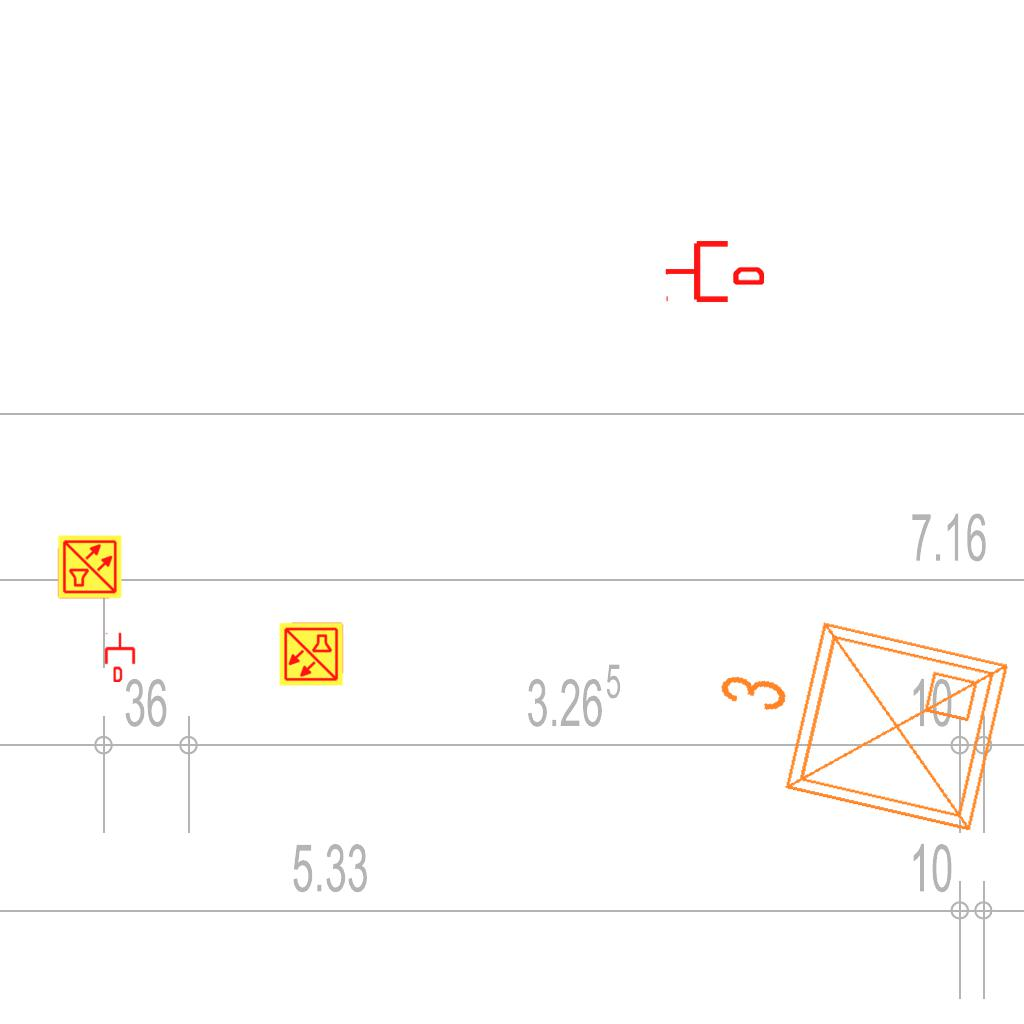Datenanschluss_einfach: (664, 237, 764, 306), (103, 632, 137, 682)
Einbaudownlights_LED_Konferenzraeume: (686, 585, 1024, 857)
OKW_Multisensormelder_(Kombination_optischer_Rauch-Kahlenmonoxid_Waerme-Melder): (57, 534, 123, 600), (278, 621, 344, 687)
